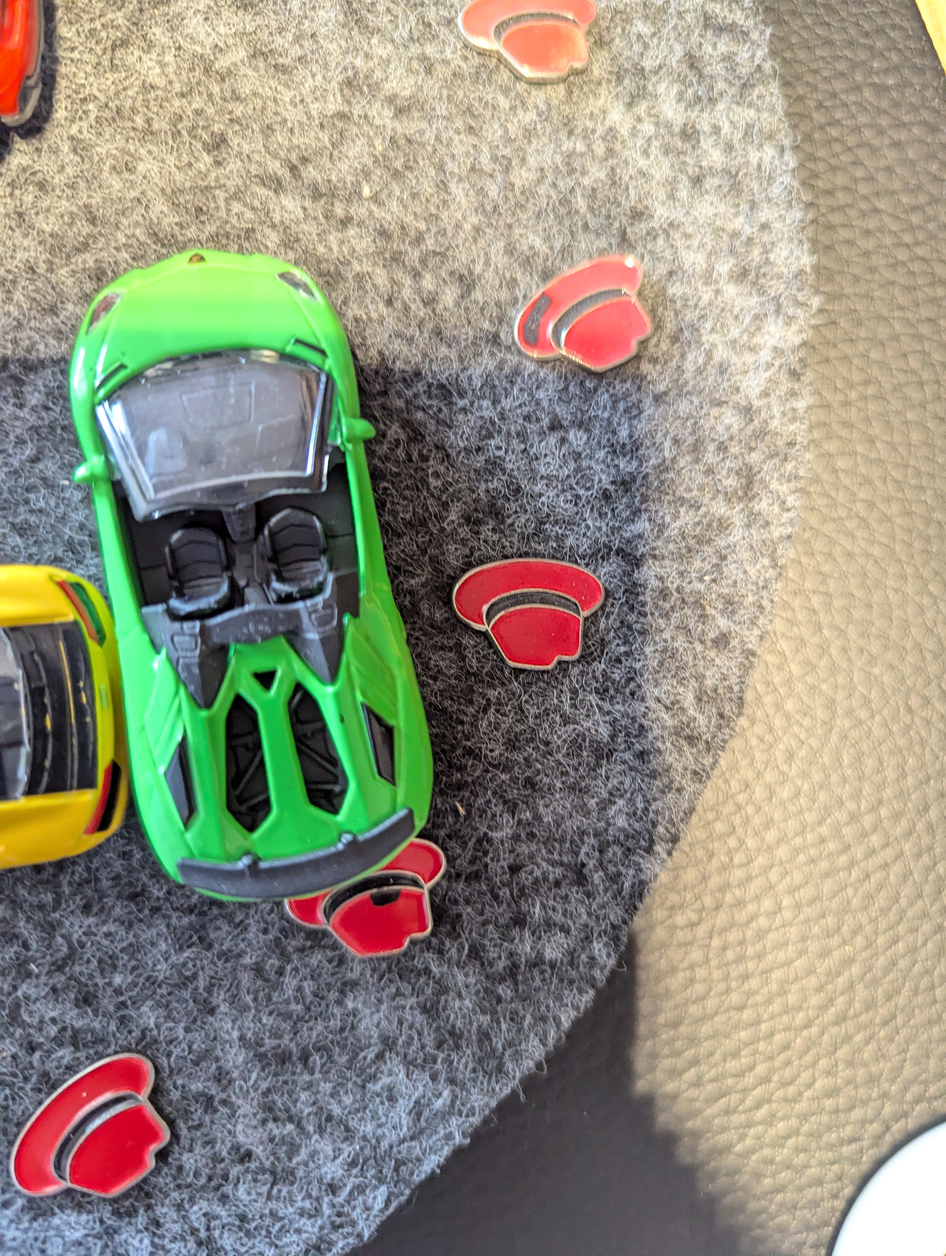Car: (40, 223, 473, 920)
Red-Hat: (469, 231, 709, 387), (1, 1032, 201, 1216), (280, 829, 465, 974), (435, 535, 611, 679), (441, 0, 616, 108)
Scratch: (504, 272, 566, 358), (362, 874, 424, 925)
